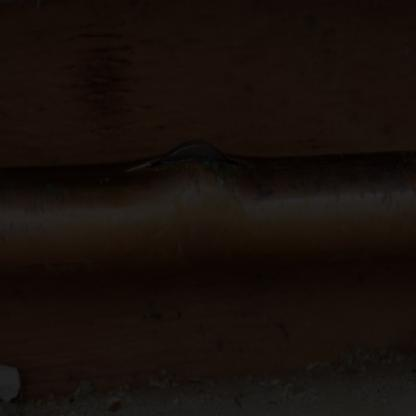burst: (131, 135, 247, 198)
